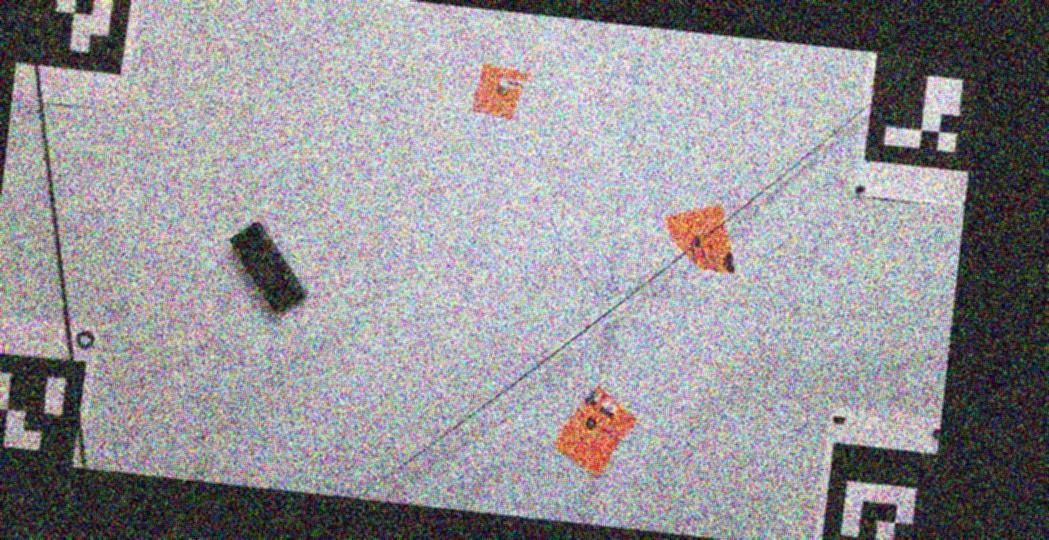obstacle: (231, 221, 307, 314), (555, 387, 635, 475), (665, 202, 735, 279), (475, 60, 531, 120)
